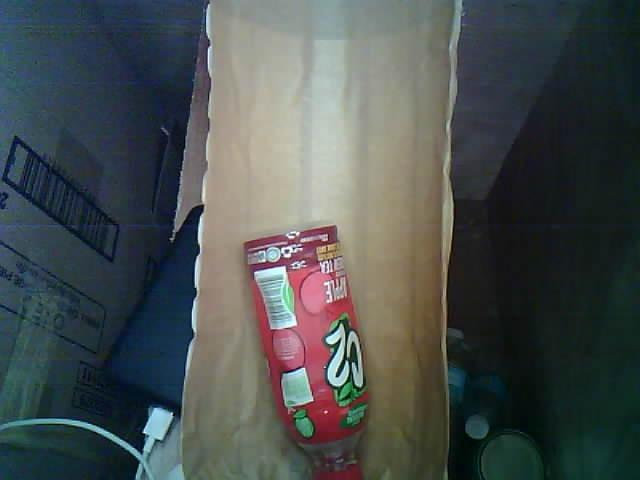small_bottle: (235, 219, 386, 480)
